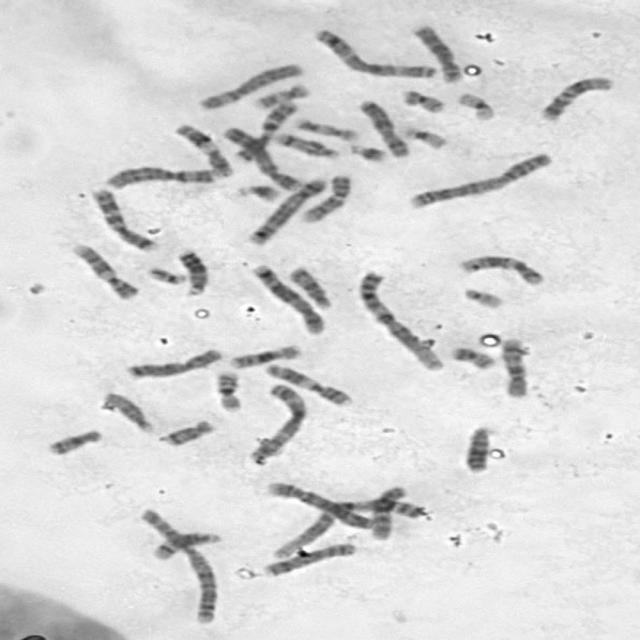A1: (267, 492, 424, 561), (352, 267, 446, 372)
A2: (132, 504, 222, 626), (402, 147, 556, 210)
A3: (309, 24, 441, 79), (245, 379, 310, 460)
B4: (261, 477, 379, 532), (217, 121, 306, 192)
B5: (245, 173, 333, 246), (248, 260, 326, 336)
C10: (366, 482, 411, 540), (496, 334, 534, 399)
C11: (259, 359, 356, 408), (169, 119, 238, 179)
C12: (535, 71, 617, 122), (453, 251, 548, 287)
C6: (193, 58, 306, 111), (101, 161, 222, 191)
C7: (84, 184, 160, 253), (229, 96, 301, 163)
C8: (258, 539, 358, 578), (408, 20, 467, 84)
C9: (66, 239, 142, 301), (296, 170, 356, 224)
D13: (172, 245, 212, 297), (459, 422, 497, 474)
D14: (149, 528, 225, 562), (270, 128, 341, 160)
D15: (98, 387, 158, 434), (285, 262, 335, 311)
E16: (225, 340, 305, 370), (211, 367, 246, 412)
E17: (288, 112, 362, 142), (248, 80, 312, 110)
E18: (154, 416, 217, 448), (42, 425, 105, 457)
F19: (452, 89, 498, 122), (397, 122, 451, 150)
F20: (445, 342, 498, 371), (396, 85, 448, 114)
G21: (231, 180, 284, 203), (344, 140, 390, 164)
G22: (458, 284, 507, 310), (143, 262, 190, 286)
X: (352, 95, 413, 159), (121, 344, 226, 380)
